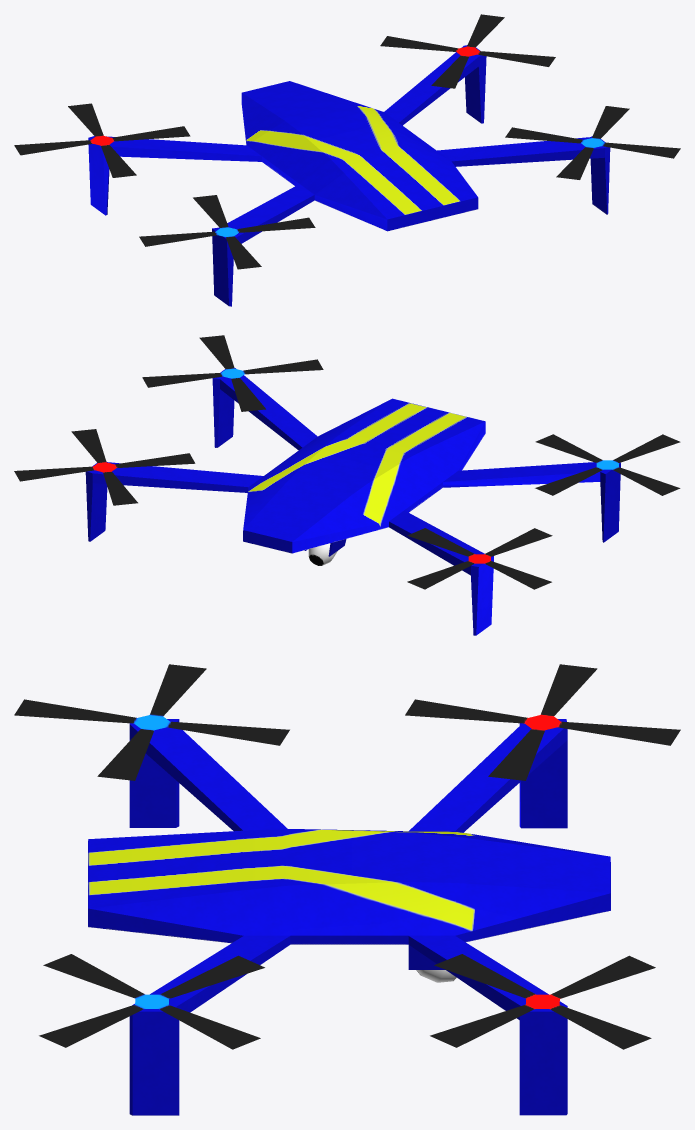
Rendered from Drone.fbx.
3 views of the same model, one above another, from view 1: azimuth 30°, elevation 25°; view 2: azimuth 150°, elevation 25°; view 3: azimuth 270°, elevation 25° (orthographic). The views are drawn at different scales.
Parts seen in each view (by area): view 1: Drone_lp; view 2: Drone_lp; view 3: Drone_lp.
Part boxes in pixels (left/top/right/bottom): Drone_lp: left=14, top=14, right=680, bottom=306; Drone_lp: left=14, top=335, right=680, bottom=635; Drone_lp: left=14, top=664, right=680, bottom=1115.
Bounding box in the file's own units: 184 × 27.22 × 134.
